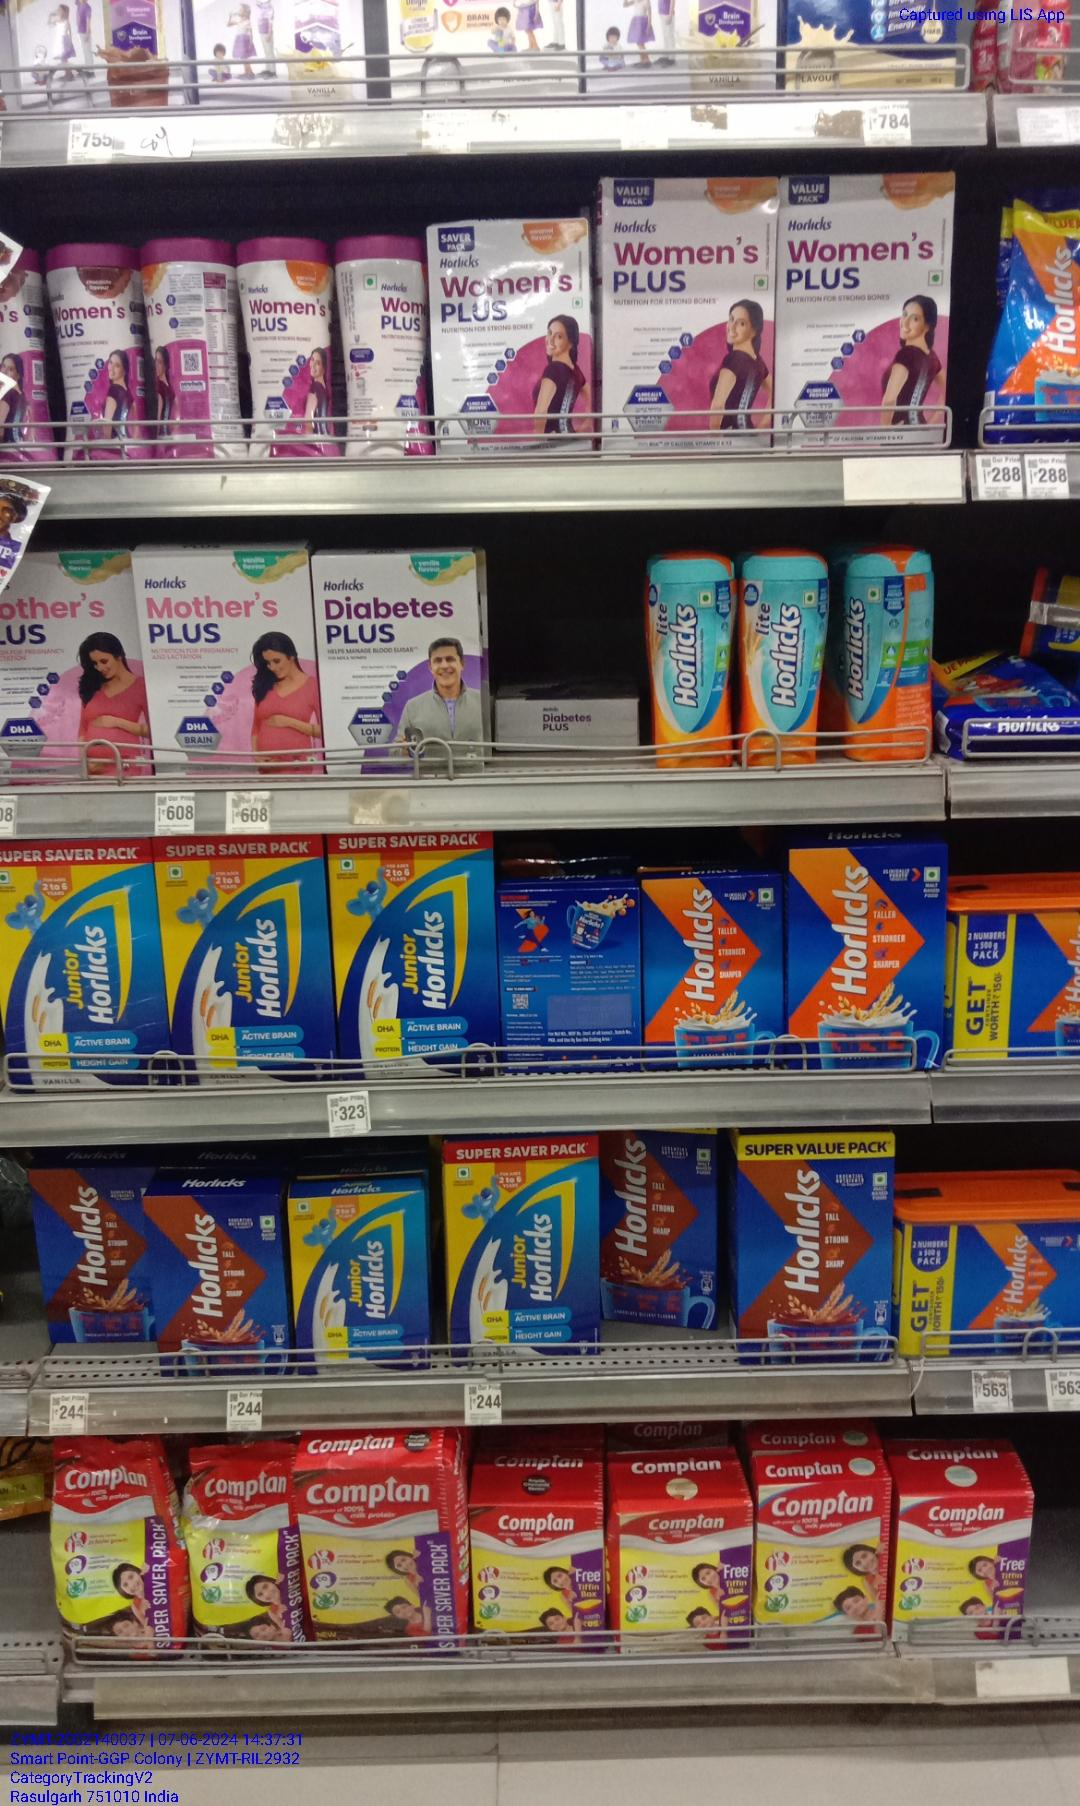COMPLAN_CHOCOLATE_1_KG_PACK: (300, 1465, 456, 1668)
COMPLAN_CREAMY_CLASSIC_500_G_PACK: (759, 1480, 885, 1644)
COMPLAN_RC_POUCH_700_GMS_12: (53, 1442, 180, 1658), (185, 1463, 296, 1650)
HORLICKS_LITE_REGULAR_MALT_500_GM_JAR: (643, 550, 735, 774), (841, 549, 931, 766), (741, 545, 827, 770)
HORLICK_CHOCOLATE_1_KG_PACK: (734, 1132, 886, 1365), (607, 1118, 725, 1334)
HORLICK_CHOCOLATE_500_G_PACK: (161, 1189, 284, 1383), (26, 1163, 148, 1346)
HORLICK_CLASSIC_MALT_500_G_PACK: (792, 846, 940, 1068)
HORLICK_MALT_1_KG_CONTAINER: (897, 1192, 1080, 1355), (937, 881, 1080, 1071)
